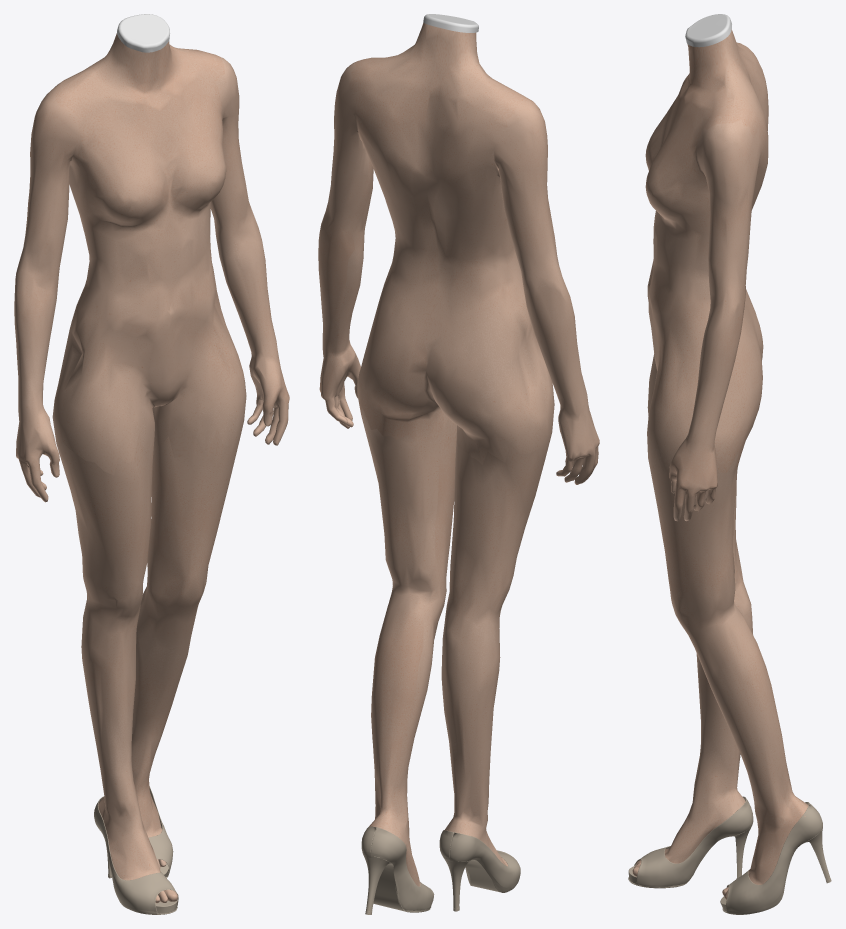
The model's file is trench_coat_body4.glb.
3 renders of one model, left to right at view 1: azimuth 30°, elevation 25°; view 2: azimuth 150°, elevation 25°; view 3: azimuth 270°, elevation 25°, orthographic. The views are drawn at different scales.
Visible parts, largest first — view 1: body, sandle, silver_cap; view 2: body, sandle, silver_cap; view 3: body, sandle, silver_cap.
Boxes of the visible parts, x1,y1,x2,y2 form: body: (14,33,289,903); sandle: (94,786,178,914); silver_cap: (117,14,169,52); body: (318,23,599,886); sandle: (361,826,520,914); silver_cap: (423,14,478,32); body: (632,29,808,899); sandle: (628,796,831,914); silver_cap: (685,14,731,47).
Size of the model in its own units: 53.47 by 168 by 35.22.
Materials: 2 (1 with a texture image).
